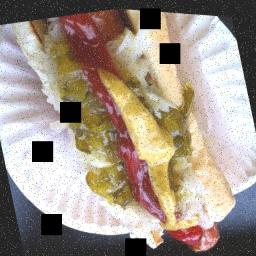hotdog: (76, 4, 132, 57), (182, 215, 224, 254)
